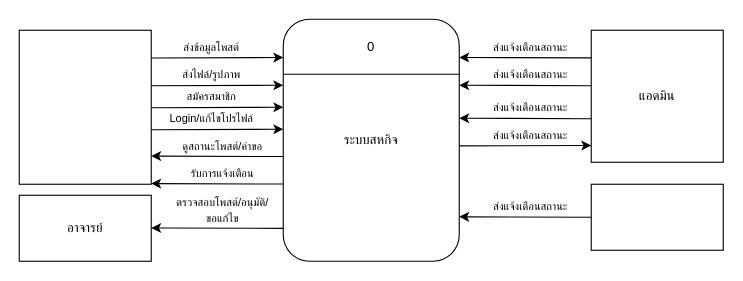
Some shapes in this 743 by 281 pixel diagram are drawn without their labels. Here are the shapes that lost their labels. From the top down, the centre of each, then its label:
At point 84,106: "นักศึกษา".
At point 656,216: "ระบบแจ้งเตือน".
